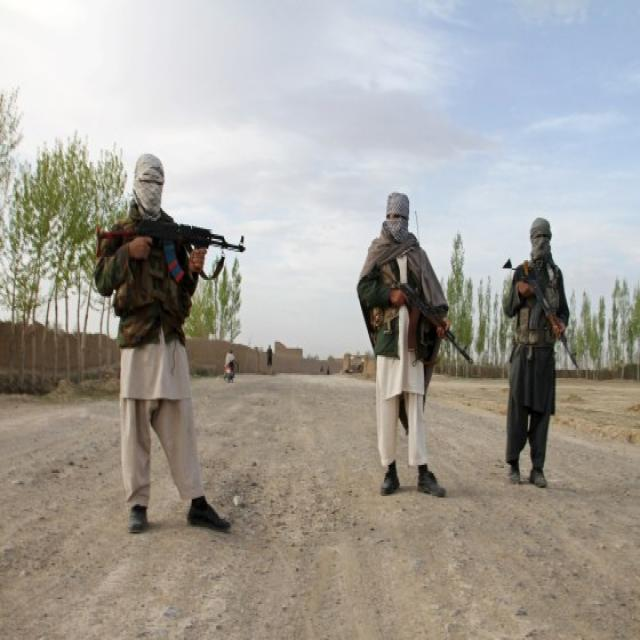Militant: (92, 144, 240, 546), (342, 148, 464, 518), (498, 202, 580, 490)
